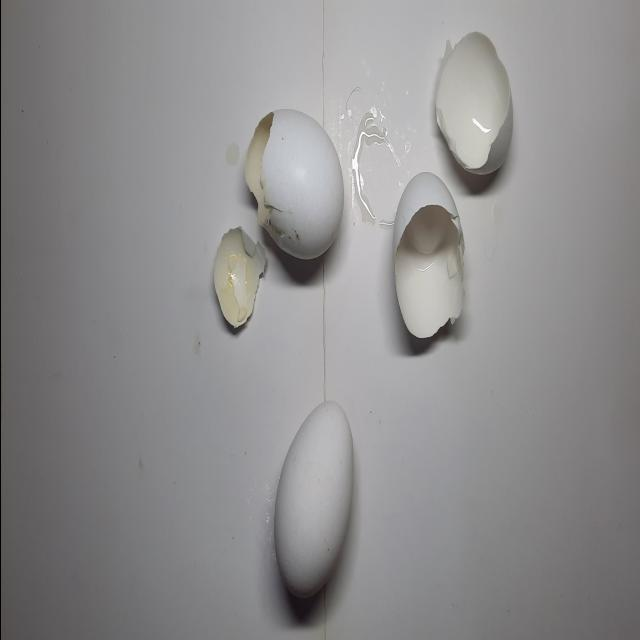egg shell: (270, 395, 354, 604), (251, 104, 345, 268), (389, 168, 466, 344), (432, 26, 514, 180), (213, 226, 258, 332)
